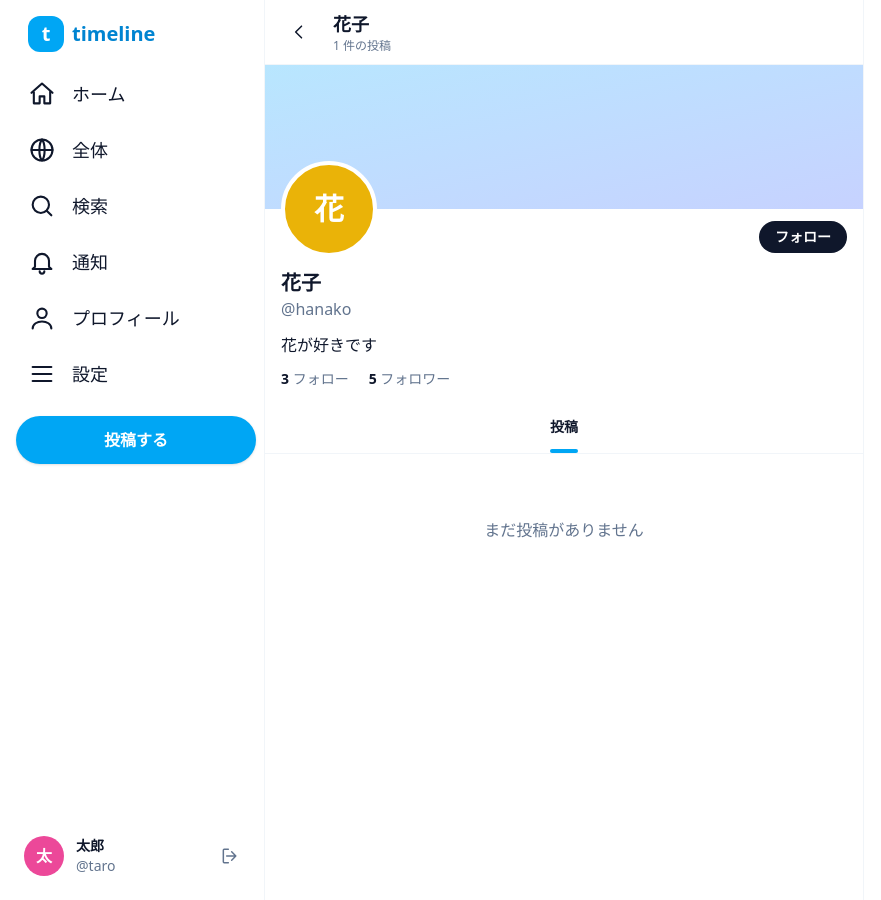
Test case: フォロー › 失敗したらメッセージを出す
This screenshot has width=881, height=900.
What coordinates should you click on to do the following:
click the button with aria-label "@hanako をフォロー"
I would click on:
 (803, 237)
Its box is [759,221,847,253].
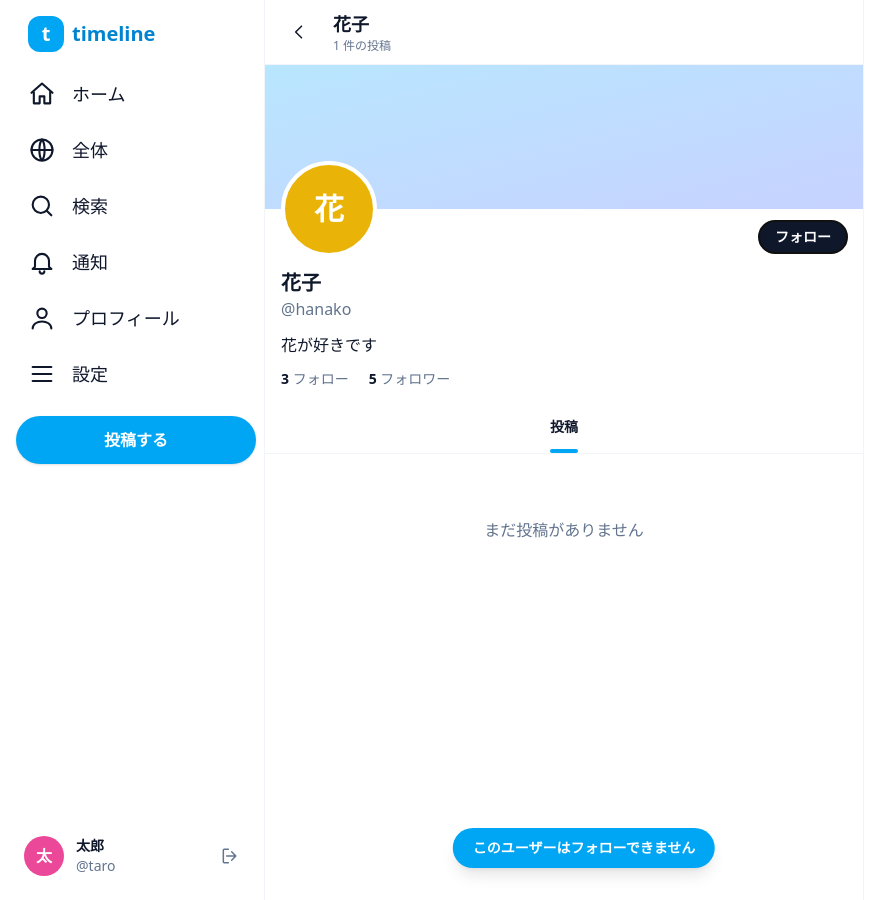
Expected: the text "このユーザーはフォローできません" is shown, [453,828,715,868]
